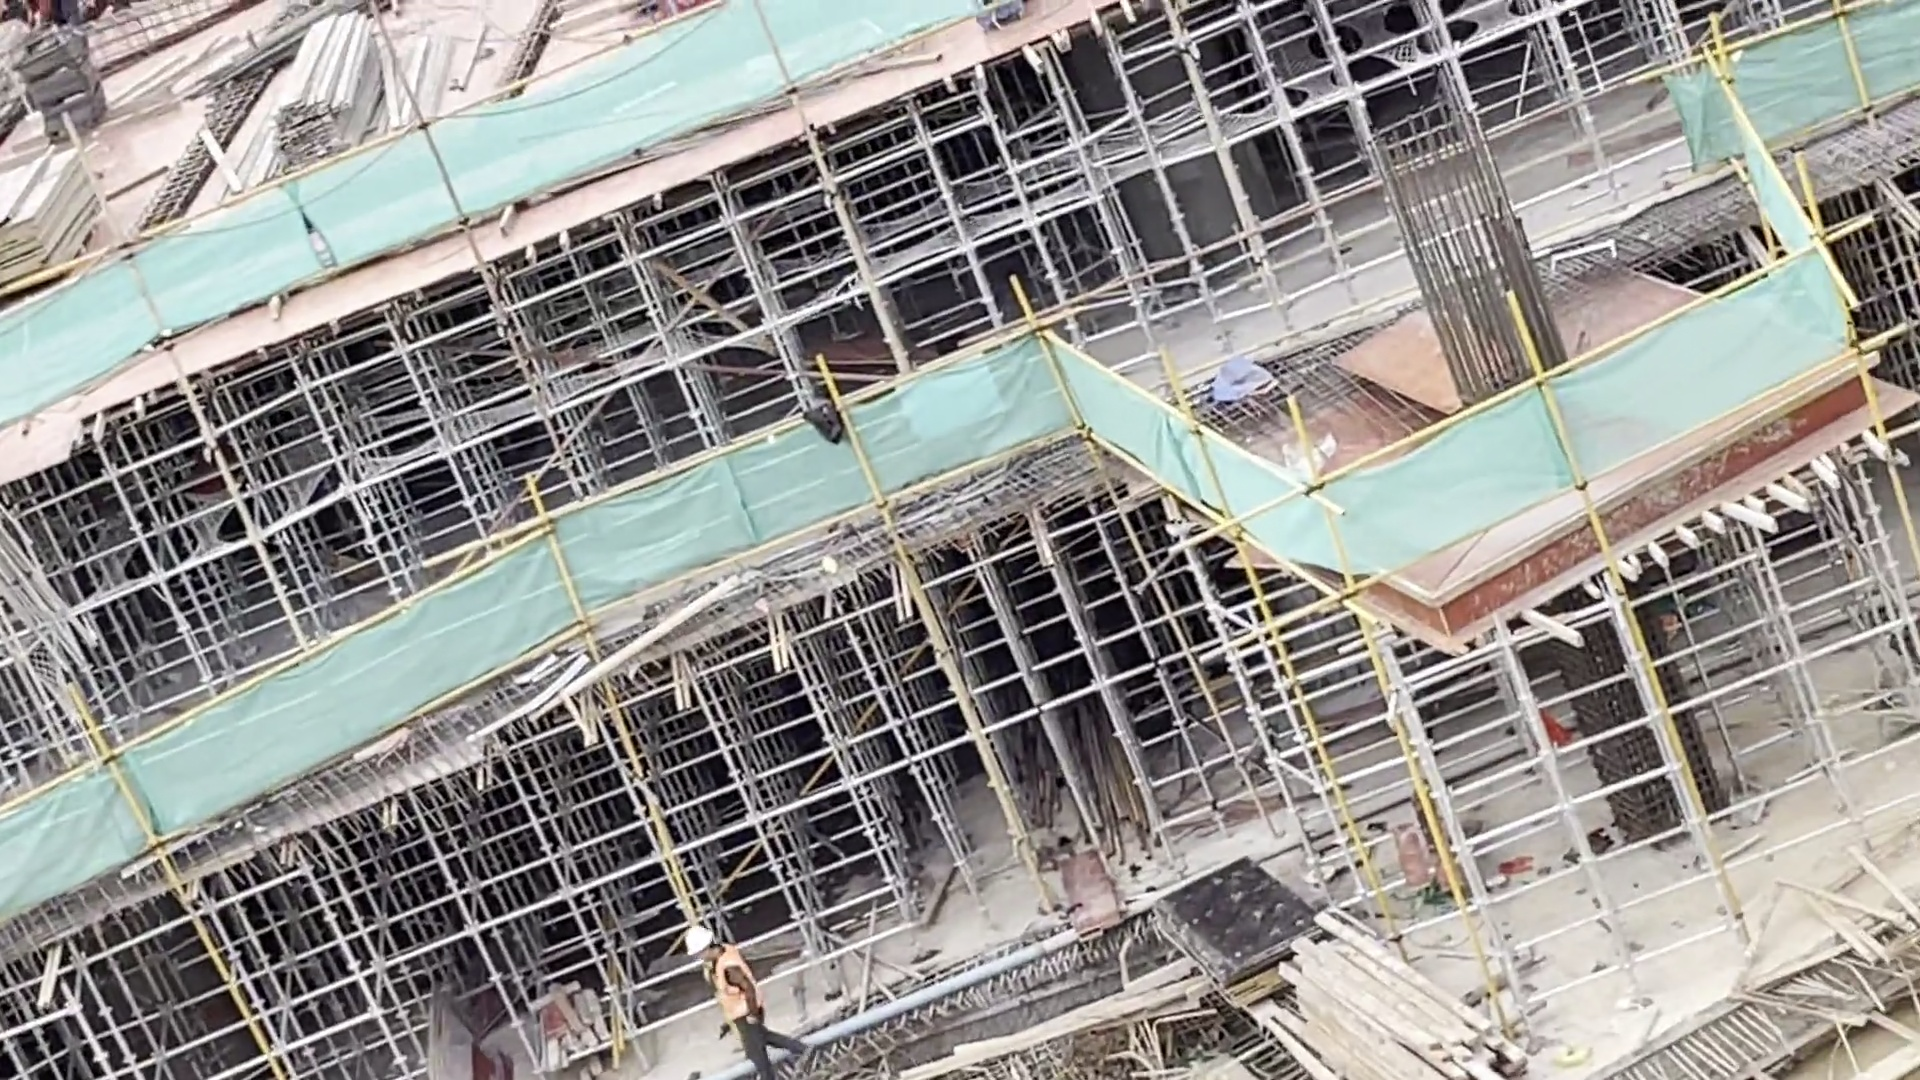board: (1158, 846, 1318, 997), (1, 143, 102, 294)
helmet: (682, 925, 715, 959)
person: (680, 926, 807, 1080)
vest: (709, 943, 758, 1023)
wood: (1258, 900, 1528, 1080)
